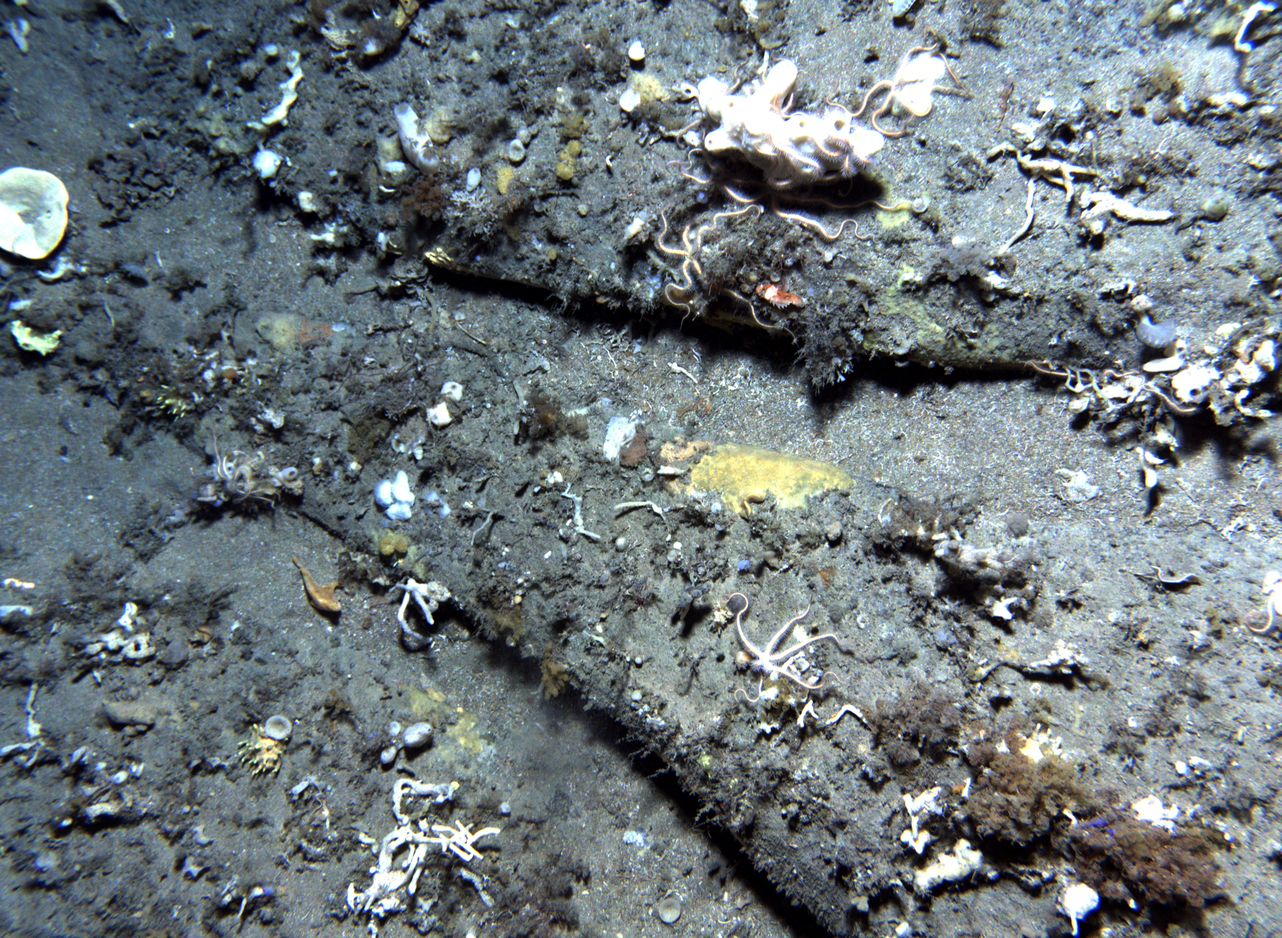Brachionichthyidae: (290, 554, 346, 617)
